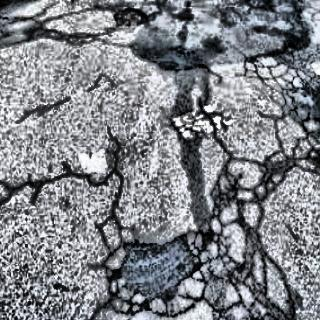alligator-crack: (191, 205, 295, 319), (102, 246, 204, 317), (256, 42, 319, 115)
crack: (0, 123, 126, 248), (216, 129, 318, 227), (197, 99, 233, 157)
